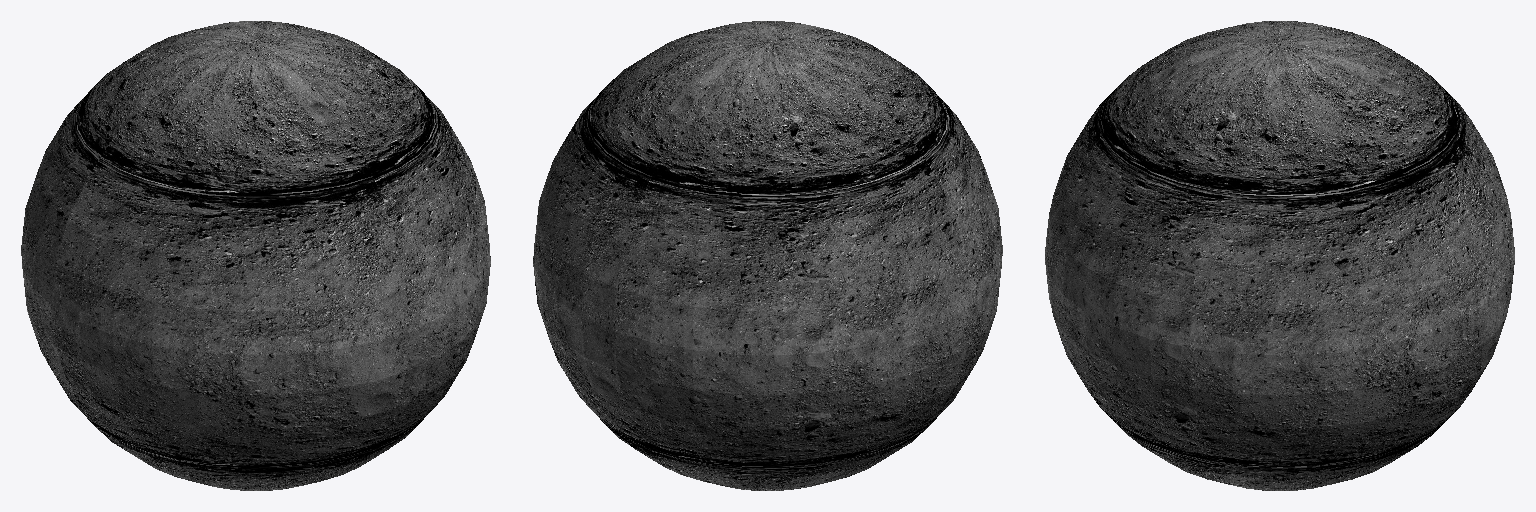
3 views of the same model, side by side, from view 1: azimuth 30°, elevation 25°; view 2: azimuth 150°, elevation 25°; view 3: azimuth 270°, elevation 25° (orthographic).
Visible parts, largest first — view 1: Sphere; view 2: Sphere; view 3: Sphere.
Boxes of the visible parts, box(x1,y1,x2,y2) form: Sphere: box(21, 21, 490, 490); Sphere: box(533, 21, 1002, 490); Sphere: box(1045, 21, 1514, 490).
Bounding box in the file's own units: 2 × 2 × 2.
1 materials, 1 textured.